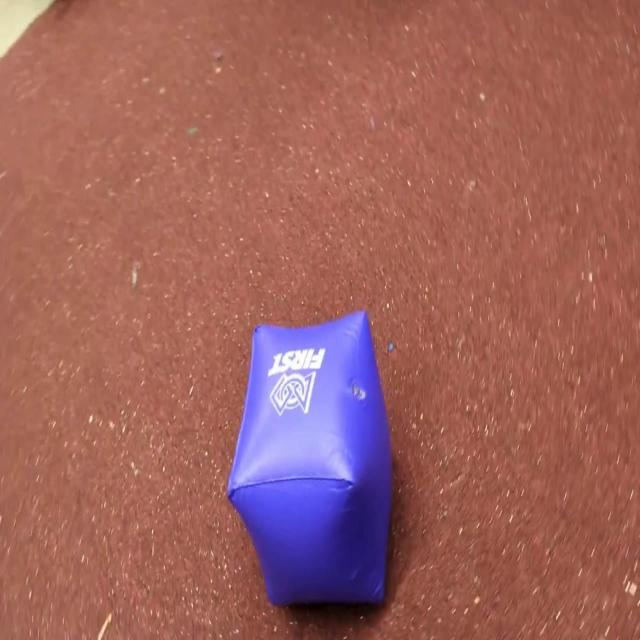frc_cube: (228, 305, 392, 607)
